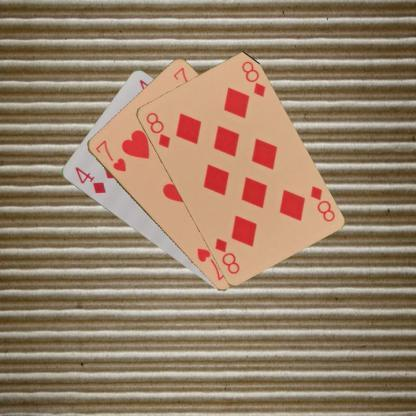4d: (73, 164, 107, 195)
7h: (92, 138, 127, 172)
8d: (142, 109, 172, 150), (306, 183, 336, 223)
